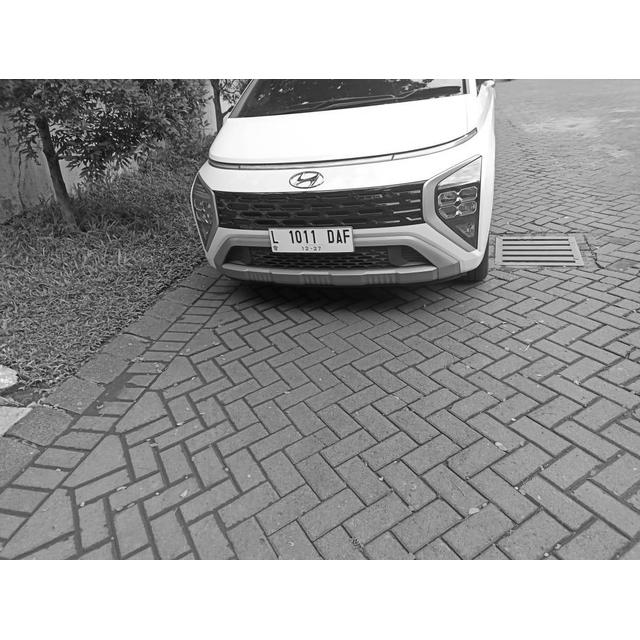license: (270, 228, 349, 251)
